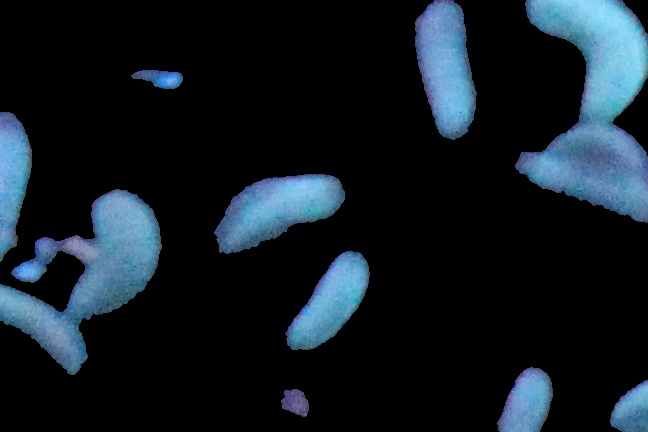larvae: (529, 1, 648, 120), (64, 181, 162, 320), (278, 248, 378, 360), (210, 173, 344, 253), (514, 153, 648, 223), (414, 1, 480, 142), (1, 286, 88, 382), (532, 121, 648, 174), (1, 108, 29, 269), (495, 361, 551, 432)
